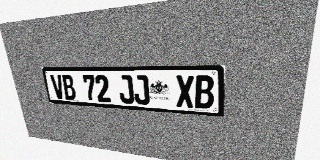2: (94, 75, 111, 102)
7: (81, 75, 98, 102)
B: (195, 75, 214, 109), (61, 75, 77, 100)
J: (132, 75, 150, 105), (117, 75, 135, 104)
V: (50, 74, 66, 99)
X: (175, 75, 194, 108)
